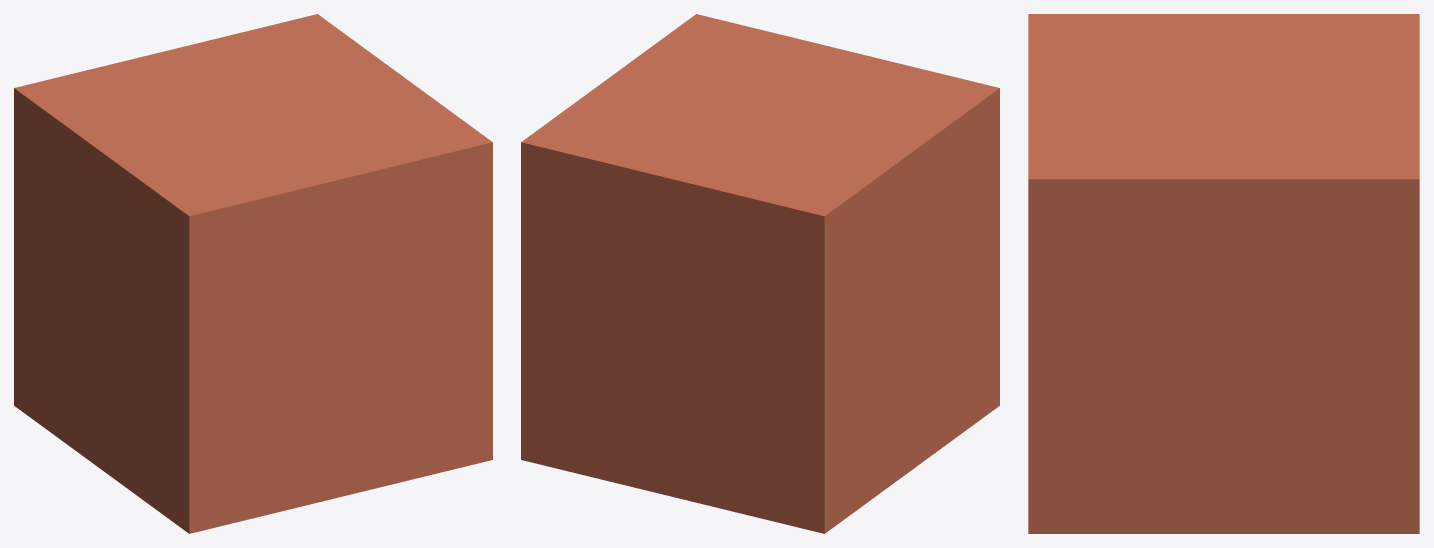
Rendered from Cuboid.fbx.
3 views of the same model, side by side, from view 1: azimuth 30°, elevation 25°; view 2: azimuth 150°, elevation 25°; view 3: azimuth 270°, elevation 25° (orthographic). The views are drawn at different scales.
Parts seen in each view (by area): view 1: CubeOrSphere; view 2: CubeOrSphere; view 3: CubeOrSphere.
Boxes of the visible parts, x1,y1,x2,y2 form: CubeOrSphere: (14, 14, 492, 533); CubeOrSphere: (521, 14, 999, 533); CubeOrSphere: (1028, 14, 1419, 533).
Bounding box in the file's own units: 2 × 2 × 2.
